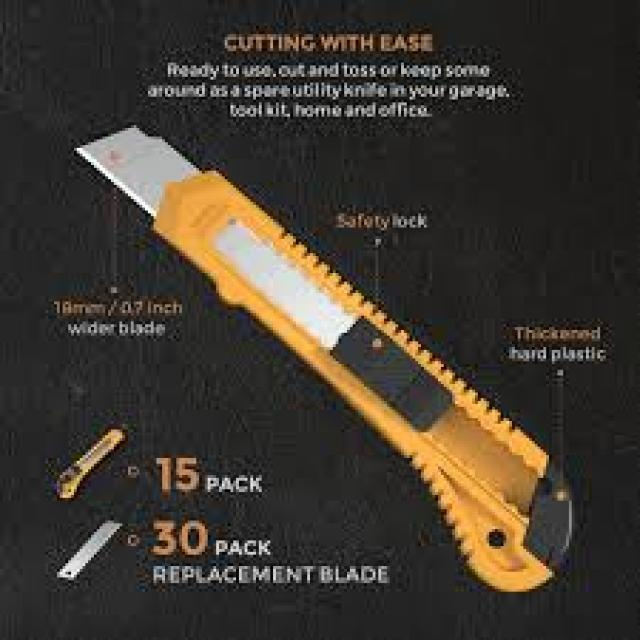cutter: (70, 118, 578, 593)
